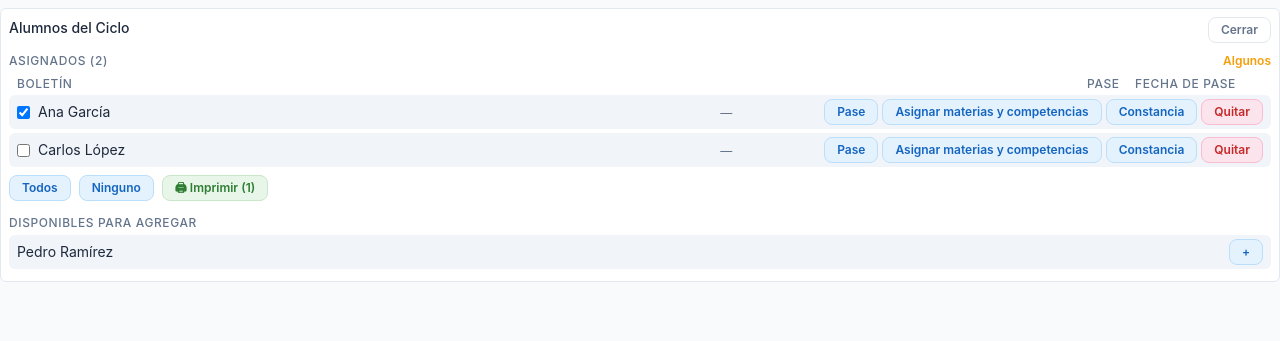
AlumnosCursoCicloPanel › W-18: error toast shown when cascade endpoint fails
Click the button with test id "btn-cascade-row-1" at [992, 112], box [882,99,1102,125]
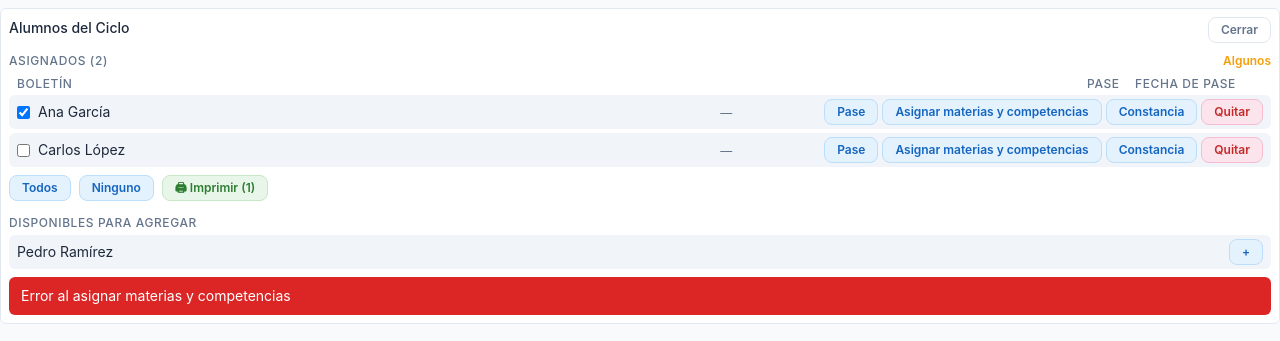
Expected: the text "Error al asignar materias y competencias" is shown, [9,277,1271,315]
